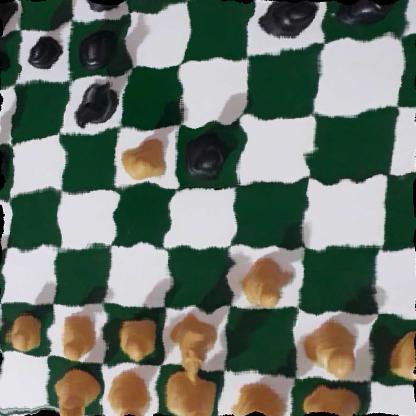black-bishop: (77, 0, 130, 10), (0, 145, 10, 191)
black-knight: (74, 74, 121, 124)
black-pawn: (181, 126, 229, 180), (261, 0, 319, 42), (80, 22, 121, 68), (334, 0, 396, 28), (26, 28, 61, 73), (0, 41, 6, 82)
black-queen: (131, 0, 186, 1)
black-rook: (0, 0, 19, 32)
white-bishop: (54, 360, 96, 416), (227, 380, 290, 416)
white-king: (162, 366, 218, 416)
white-knight: (164, 310, 220, 383)
white-pawn: (120, 133, 171, 186), (235, 259, 289, 306), (111, 311, 157, 364), (381, 324, 416, 387), (57, 308, 96, 362), (3, 308, 45, 354)
white-queen: (101, 367, 154, 416)
white-rook: (297, 383, 370, 416)
